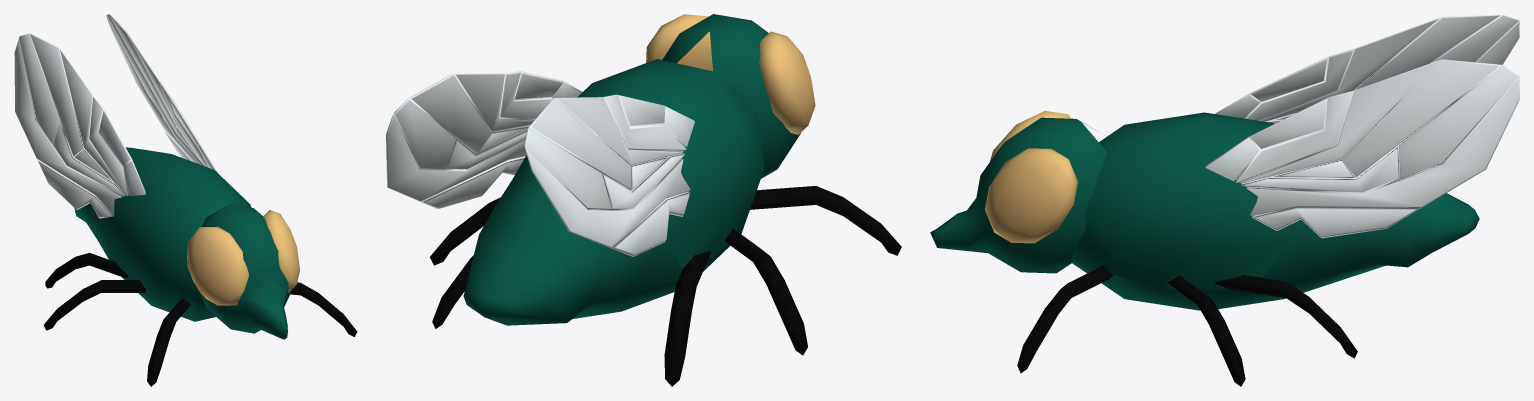
File: housefly.glb
The picture shows the model from 3 angles, left to right: view 1: azimuth 30°, elevation 25°; view 2: azimuth 150°, elevation 25°; view 3: azimuth 270°, elevation 25°; orthographic projection. The views are drawn at different scales.
Parts seen in each view (by area): view 1: Symmetry.1; view 2: Symmetry.1; view 3: Symmetry.1.
Boxes of the visible parts, left/top/right/bottom form: Symmetry.1: left=14, top=14, right=357, bottom=386; Symmetry.1: left=386, top=14, right=901, bottom=386; Symmetry.1: left=930, top=14, right=1519, bottom=386.
Size of the model in its own units: 0.0515 by 0.0405 by 0.08.
